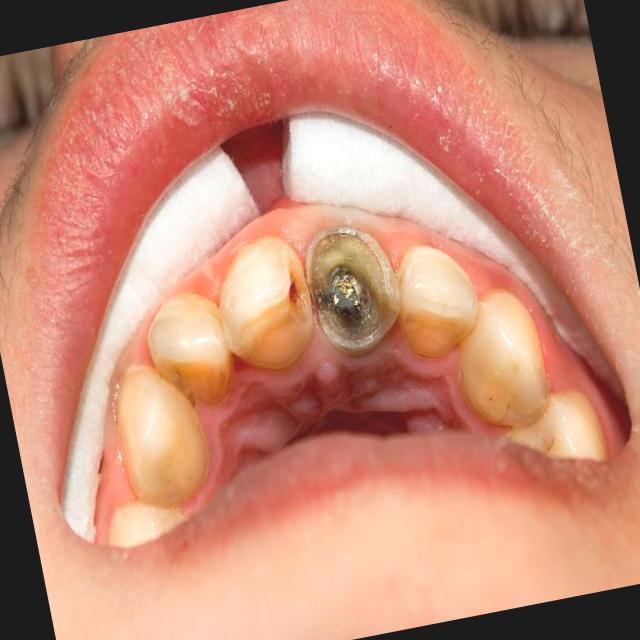caries: (212, 230, 324, 377), (449, 288, 556, 434), (298, 219, 405, 356), (386, 236, 489, 368), (140, 287, 244, 417), (516, 384, 611, 476)
